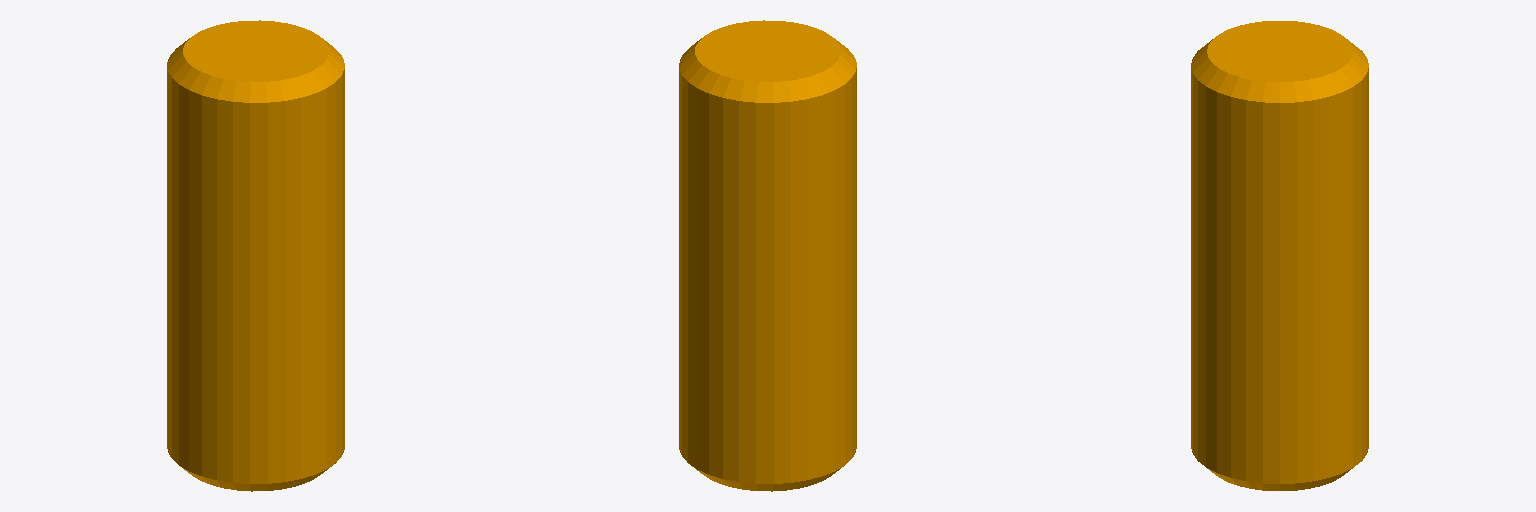
robot.urdf — coke_new_model:
<robot name="coke_new_model">
  <link name="coke_new">
    <inertial>
      <mass value="0.350000" />
      <origin xyz="-0.000000 -0.000000 0.072500"/>
      <inertia ixx="0.000670" ixy="0.000000" ixz="-0.000000" iyy="0.000670" iyz="0.000000" izz="0.000141" />
    </inertial>
    <visual>
      <geometry>
        <mesh filename="package://manipulation_objects/meshes/coke_new.stl" />
      </geometry>
    </visual>
    <collision>
      <geometry>
        <mesh filename="package://manipulation_objects/meshes/coke_new.stl" />
      </geometry>
    </collision>
  </link>
  <gazebo reference="coke_new">
    <material>Gazebo/Grey</material>
  </gazebo>
</robot>

--- Render facts (derived) ---
Views: 3 orthographic renders of the robot side by side, from view 1: azimuth 30°, elevation 25°; view 2: azimuth 150°, elevation 25°; view 3: azimuth 270°, elevation 25°.
Model coke_new_model with 1 links and 0 joints (none), rooted at coke_new, posed every joint at zero.
Links seen in each view (by area): view 1: coke_new; view 2: coke_new; view 3: coke_new.
Boxes of the visible links, x1,y1,x2,y2 form: coke_new: [167, 20, 344, 491]; coke_new: [679, 20, 856, 491]; coke_new: [1191, 21, 1368, 490].
Size in the robot's own frame: 0.0572 by 0.0572 by 0.145 metres.
1 mesh visuals loaded from 1 distinct referenced files (1 binary STL).
